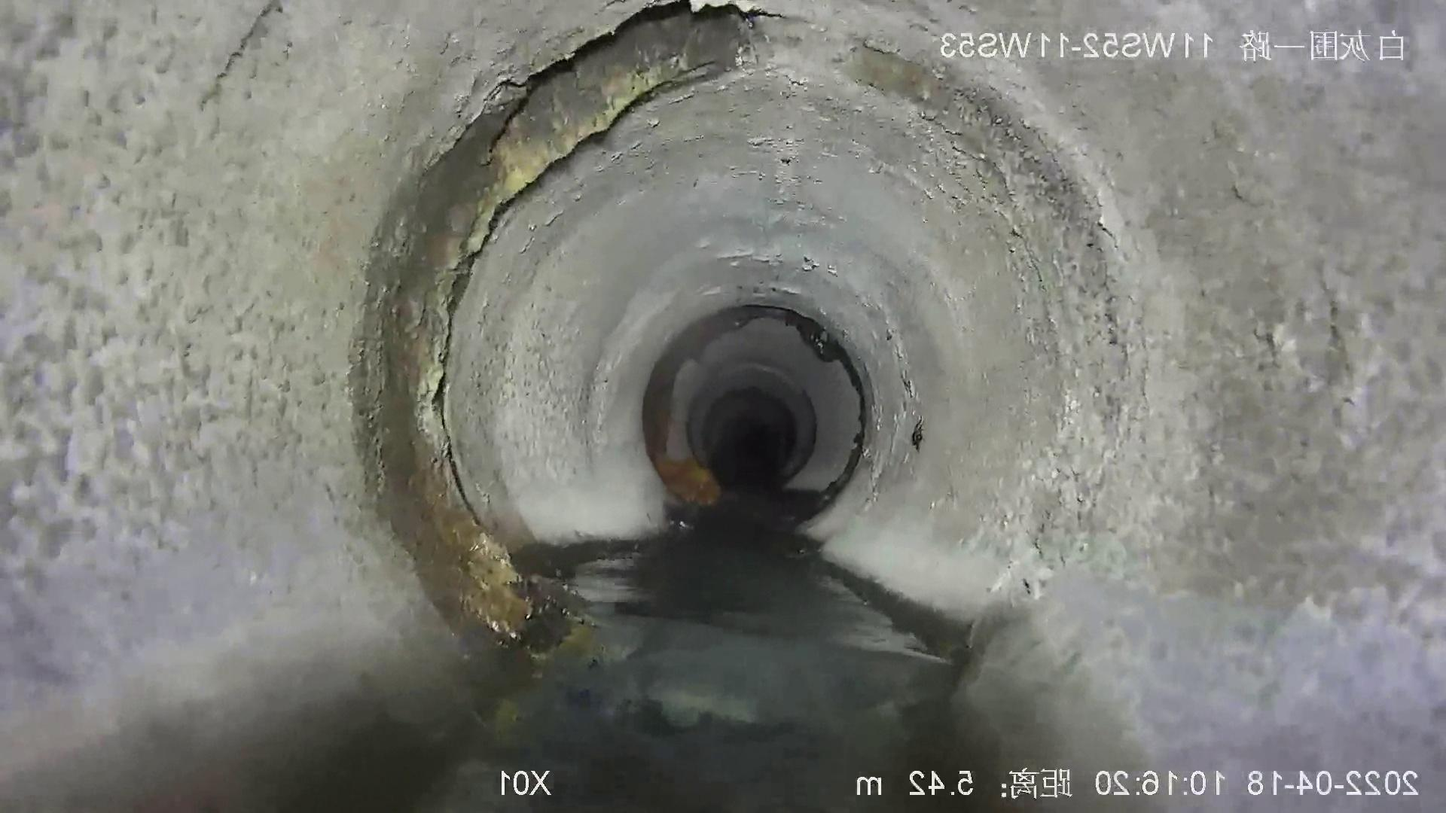CKTJ: (352, 0, 985, 655)
